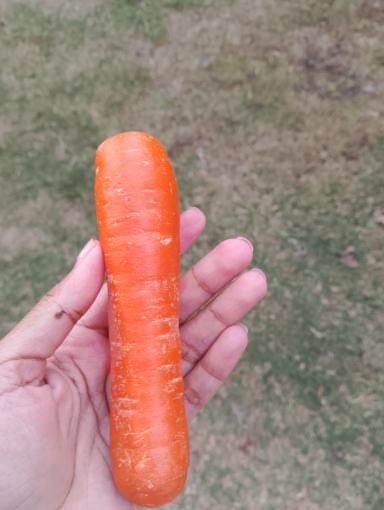carrot: (90, 128, 199, 506)
